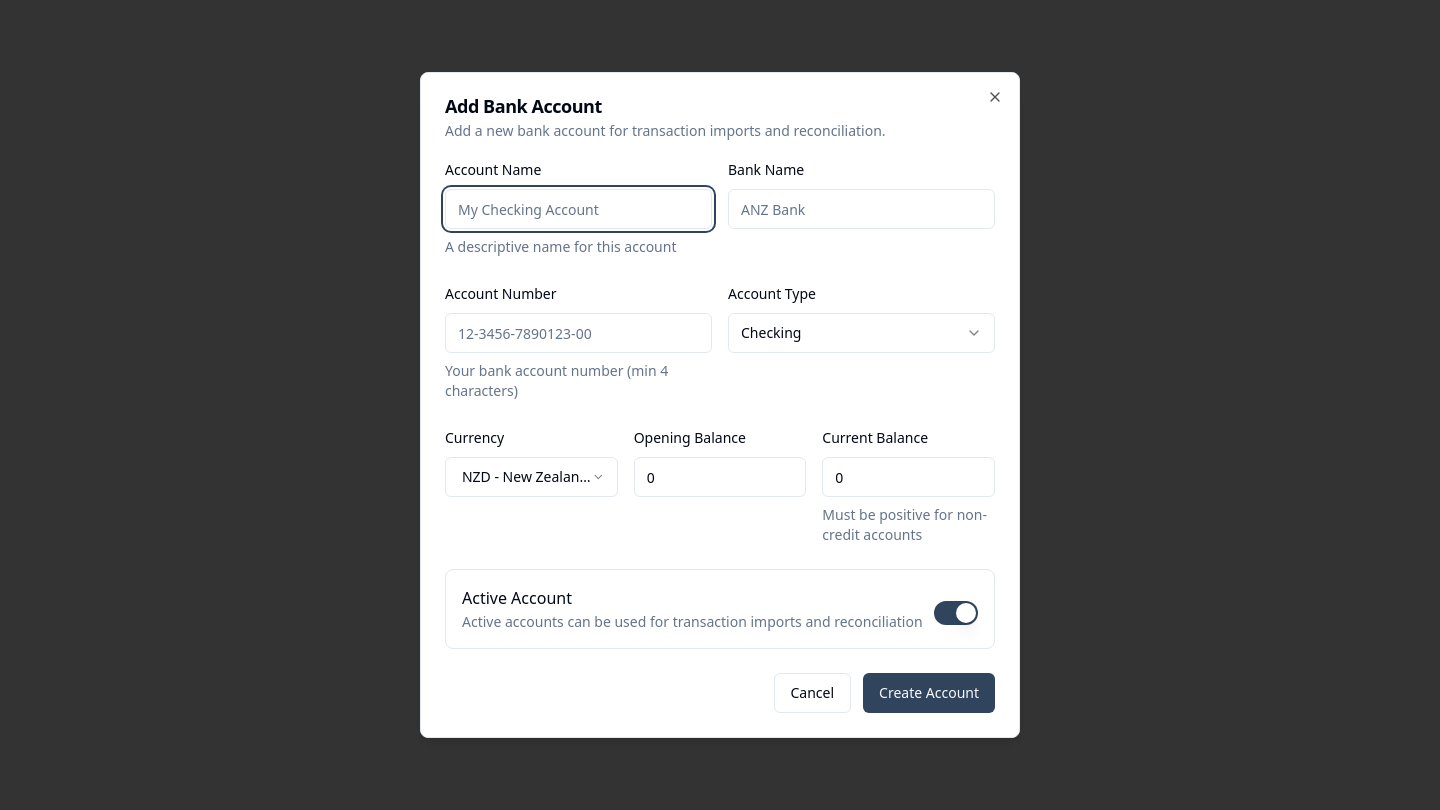
Test: BankAccountDialog › should disable submit button while loading
Note: Fill in required fields
Type "Test Account" into the field labelled "Account Name". click: (578, 209)
box: x1=445 y1=189 x2=712 y2=229
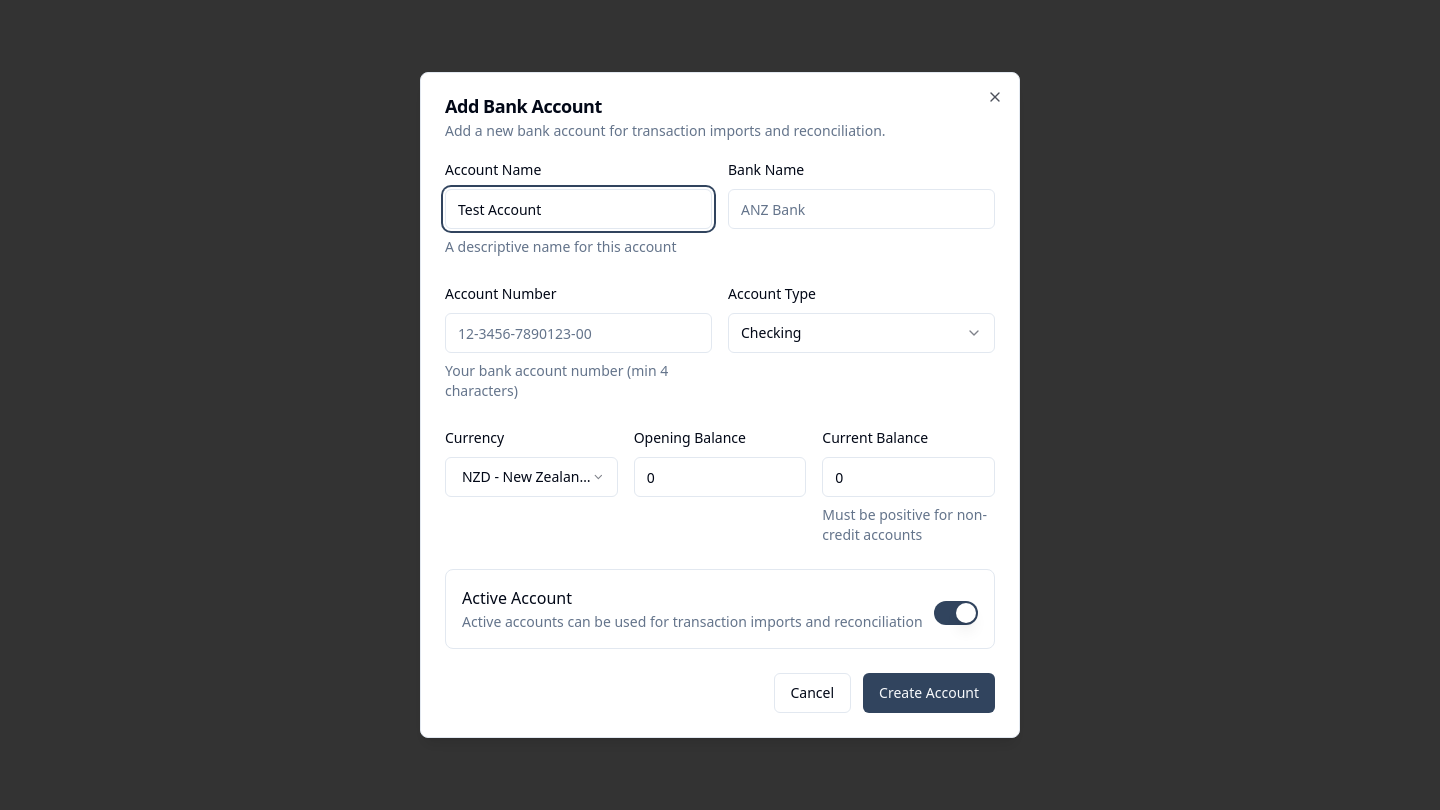
Type "12345678" into the field labelled "Account Number". click: (578, 333)
box: x1=445 y1=313 x2=712 y2=353
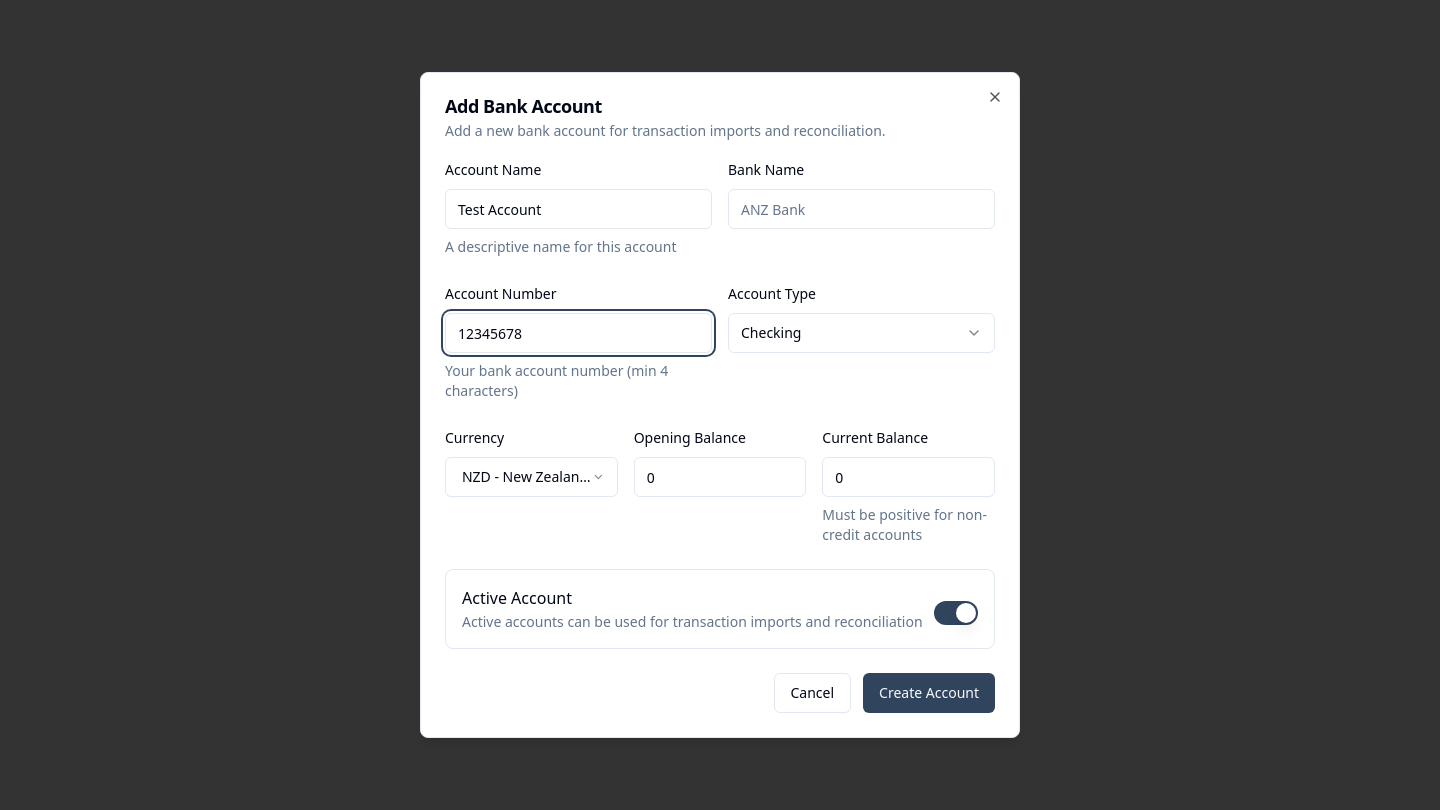
Type "Test Bank" into the field labelled "Bank Name". click: (862, 209)
box: x1=728 y1=189 x2=995 y2=229
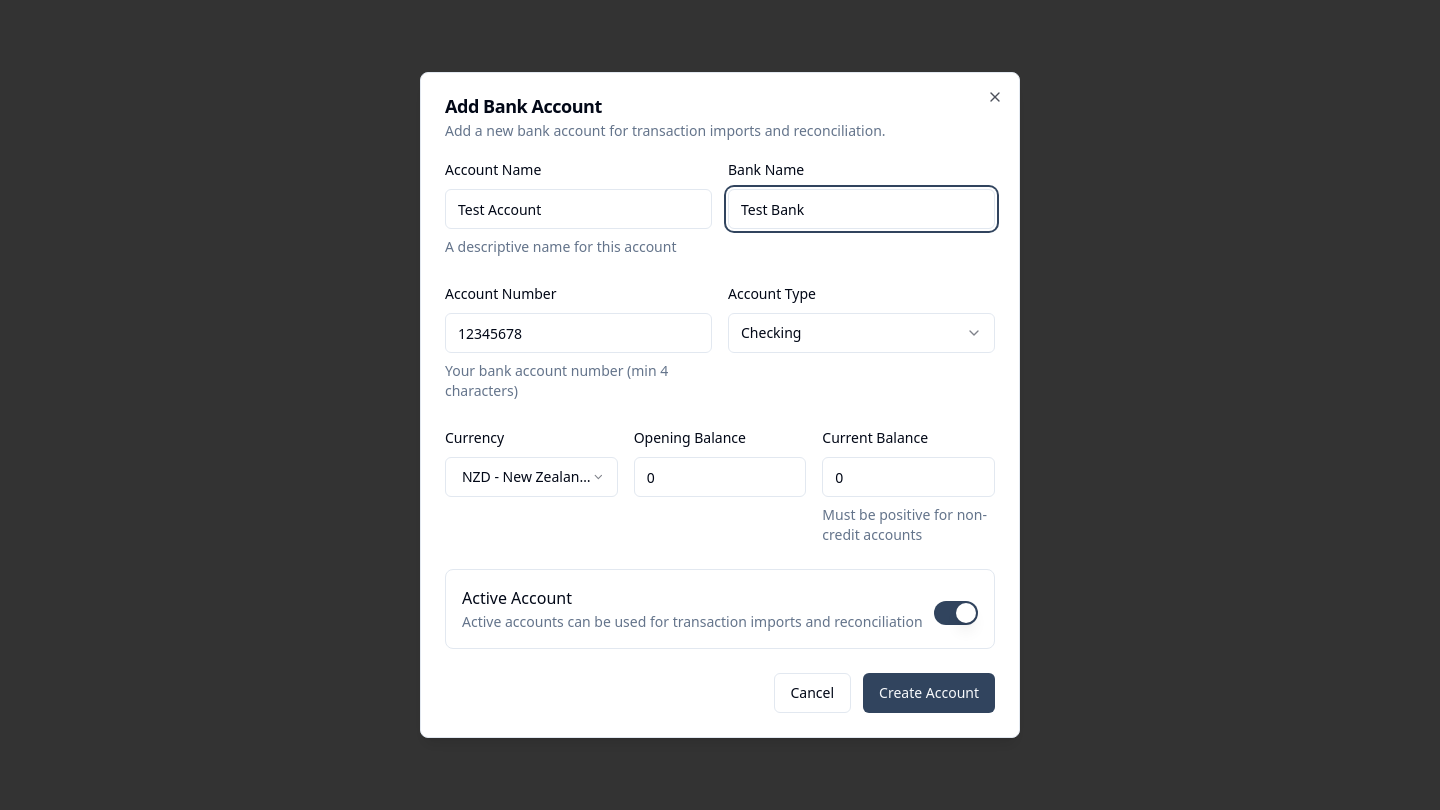
Click the button "Create Account". click: (929, 693)
box: x1=863 y1=673 x2=995 y2=713
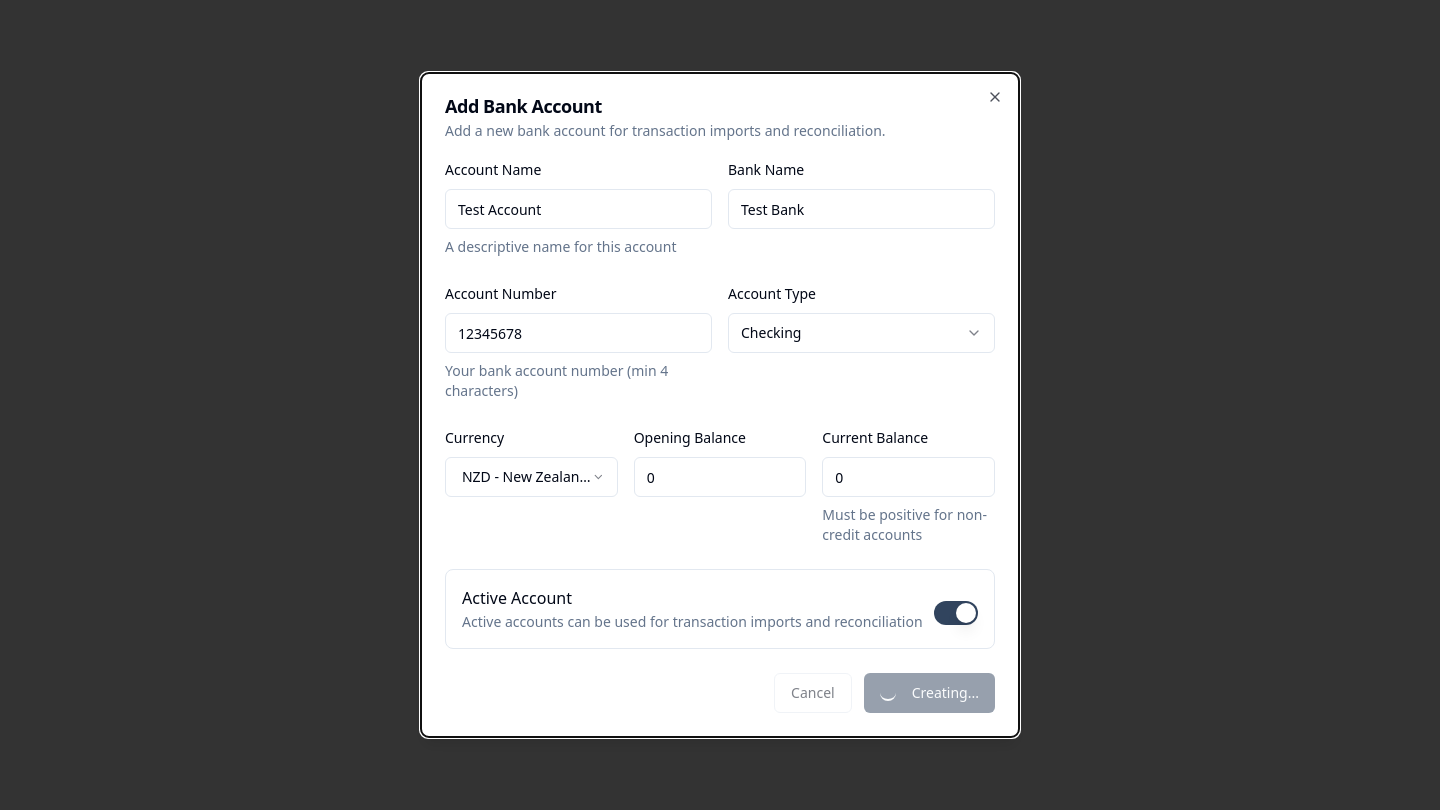
expect the button "Creating..." is disabled: met, box x1=864 y1=673 x2=995 y2=713
